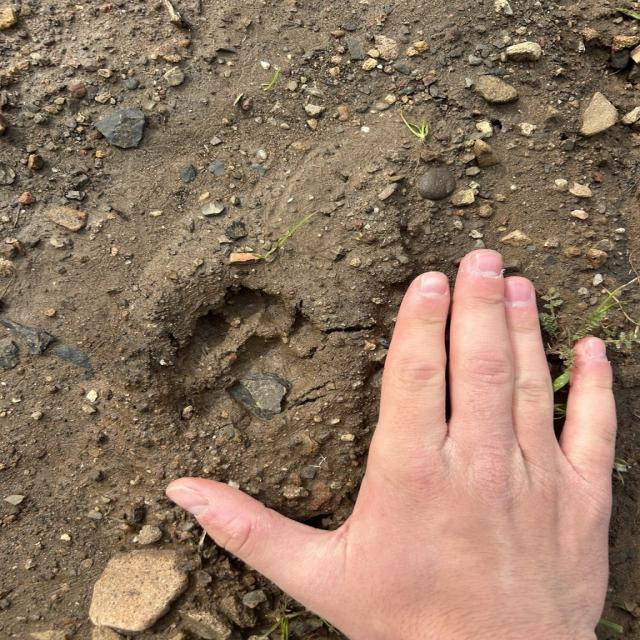felid: (193, 285, 320, 385)
